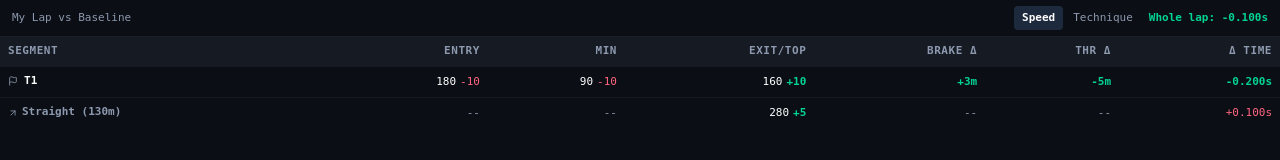
Test: CornerSpeedTable › switches to Technique view mode and displays measured corner observations
Expected: the column heading "Entry" is shown, [334,37,488,66]
// Click Technique button:
Click the button "Technique": (1103, 18) [1065,6,1141,30]
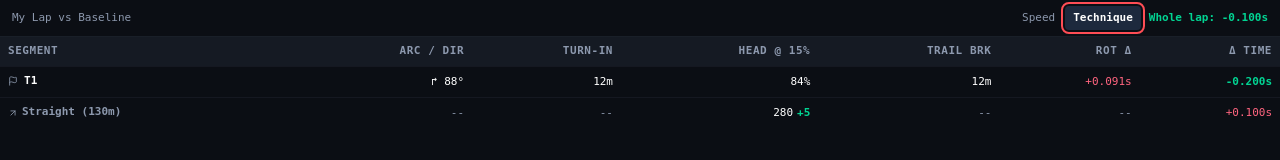
Expected: the column heading "Arc / Dir" is shown, [291,37,472,66]
Expected: the text "↱ 88°" is shown, [291,66,472,98]
Expected: the text "84%" is shown, [790,75,810,88]
